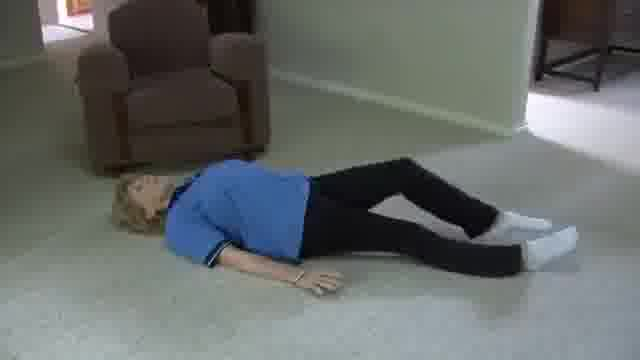falling: (121, 140, 572, 306)
